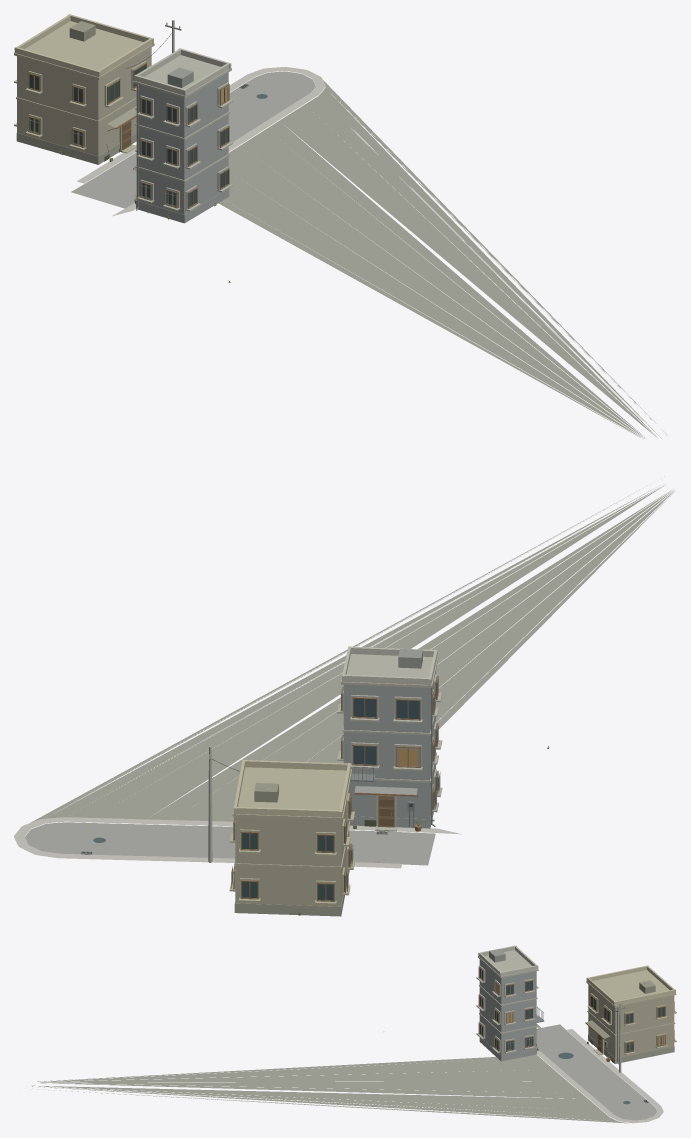
File: street_9_4.glb
3 views of the same model, one above another, from view 1: azimuth 30°, elevation 25°; view 2: azimuth 150°, elevation 25°; view 3: azimuth 270°, elevation 25° (orthographic). The views are drawn at different scales.
Parts seen in each view (by area): view 1: ground.011, graybrick.010, trim.010, concrete.004, road.047, plaster.010, wood.010, glass.010, paving.037, roof_metal.010, metal.010; view 2: ground.011, trim.010, road.047, graybrick.010, concrete.004, plaster.010, paving.037, wood.010, glass.010, roof_metal.010, metal.010; view 3: ground.011, road.047, graybrick.010, trim.010, concrete.004, plaster.010, paving.037, wood.010, glass.010, roof_metal.010, metal.010.
Part boxes in pixels (x1,y1,x2,y2): ground.011: (218,80,666,438); graybrick.010: (16,72,229,223); trim.010: (14,21,232,211); concrete.004: (17,20,174,156); road.047: (71,71,315,208); plaster.010: (14,14,231,95); wood.010: (28,62,229,208); glass.010: (29,65,228,207); paving.037: (77,67,325,216); roof_metal.010: (69,21,193,168); metal.010: (28,25,249,210); ground.011: (30,476,674,822); trim.010: (229,654,442,904); road.047: (25,822,435,865); graybrick.010: (234,671,435,916); concrete.004: (208,746,349,906); plaster.010: (233,646,437,817); paving.037: (14,817,461,868); wood.010: (233,676,438,901); glass.010: (234,677,437,900); roof_metal.010: (254,649,422,802); metal.010: (81,687,440,892); ground.011: (31,1054,630,1123); road.047: (536,1024,656,1120); graybrick.010: (479,959,674,1063); trim.010: (476,950,676,1055); concrete.004: (588,985,674,1072); plaster.010: (478,945,675,1005); paving.037: (536,1029,663,1123); wood.010: (478,966,674,1053); glass.010: (479,968,664,1052); roof_metal.010: (489,949,655,1038); metal.010: (506,1007,665,1103).
Size of the model in its own units: 24.04 by 10.42 by 67.91.
